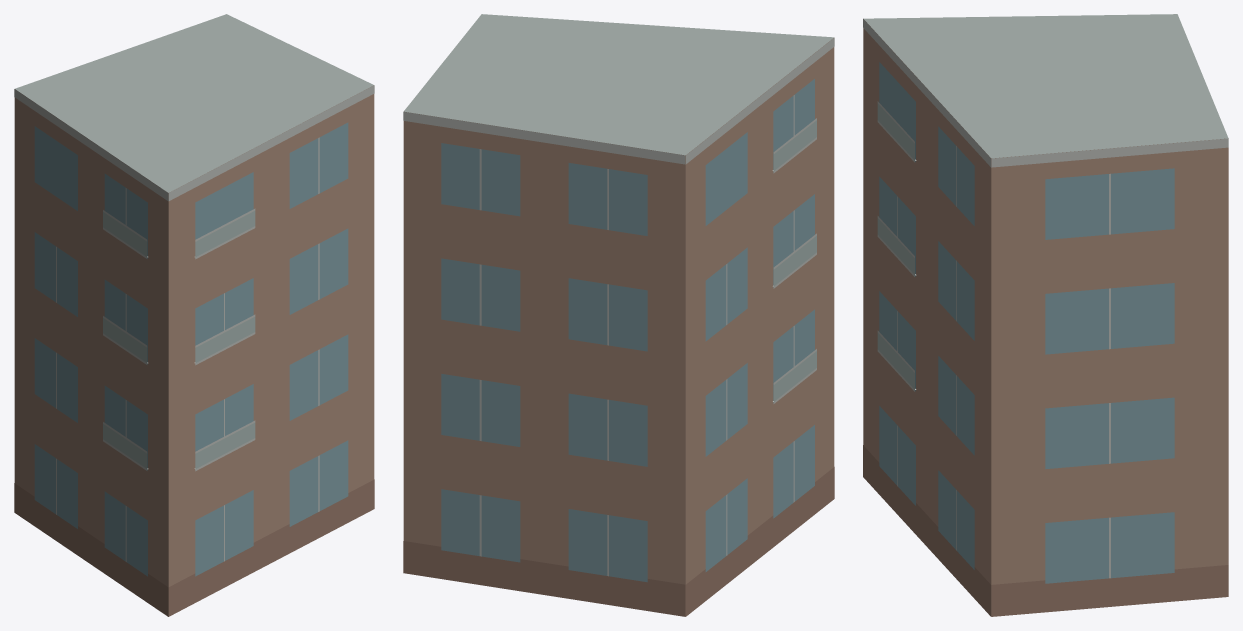
The model's file is survey-upis-32473414.glb.
The picture shows the model from 3 angles, left to right: view 1: azimuth 30°, elevation 25°; view 2: azimuth 150°, elevation 25°; view 3: azimuth 270°, elevation 25°; orthographic projection. The views are drawn at different scales.
Parts seen in each view (by area): view 1: survey-upis-32473414.tmp; view 2: survey-upis-32473414.tmp; view 3: survey-upis-32473414.tmp.
Part boxes in pixels (x1,y1,x2,y2): survey-upis-32473414.tmp: [14, 14, 374, 616]; survey-upis-32473414.tmp: [403, 14, 834, 616]; survey-upis-32473414.tmp: [863, 14, 1228, 616].
Bounding box in the file's own units: 8.25 × 12.2 × 8.82.
